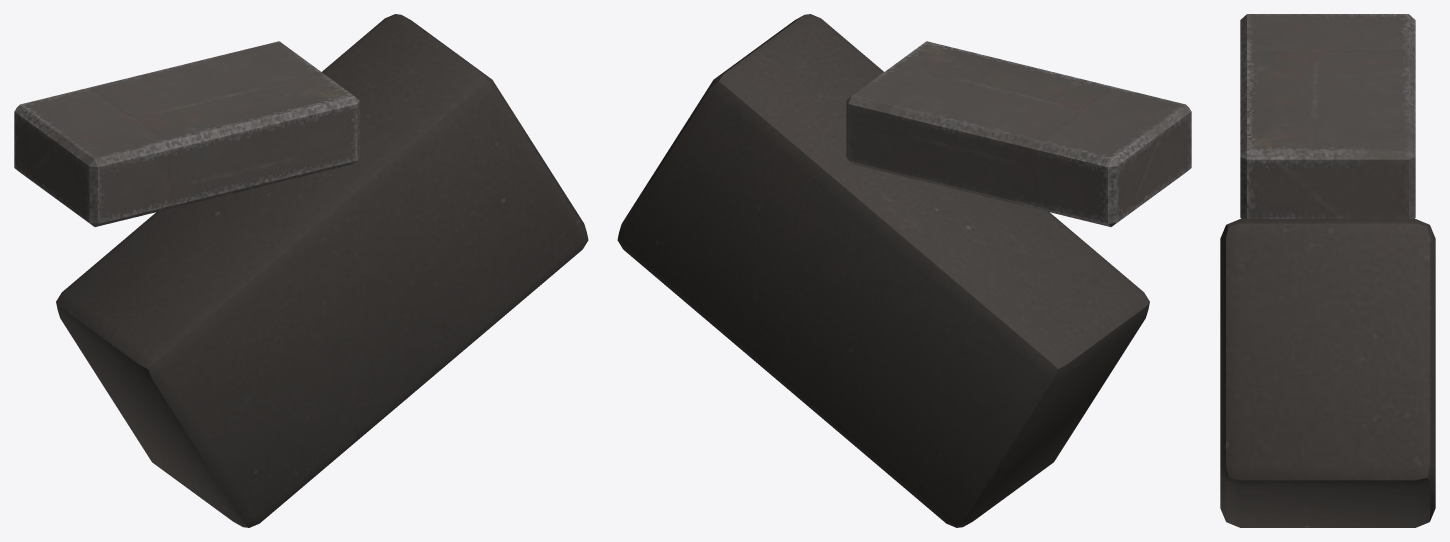
Rendered from lean_grip.glb.
The picture shows the model from 3 angles, left to right: view 1: azimuth 30°, elevation 25°; view 2: azimuth 150°, elevation 25°; view 3: azimuth 270°, elevation 25°; orthographic projection. The views are drawn at different scales.
Visible parts, largest first — view 1: lean_grip; view 2: lean_grip; view 3: lean_grip.
Part boxes in pixels (box(x1,y1,x2,y2)): lean_grip: box(14, 14, 588, 527); lean_grip: box(617, 14, 1191, 527); lean_grip: box(1220, 14, 1435, 527).
Size of the model in its own units: 0.0913 by 0.0709 by 0.032.
Materials: 1 (1 with a texture image).
